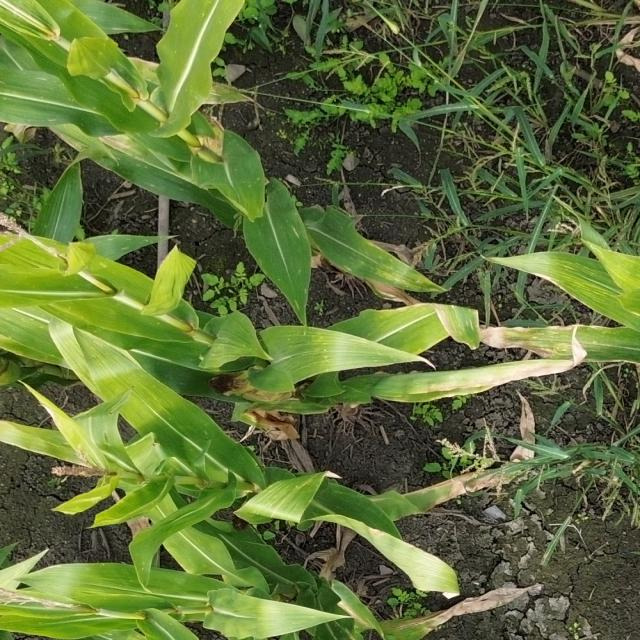gray-leaf-spot: (546, 238, 640, 314)
northern-leaf-blight: (397, 343, 584, 409), (483, 311, 640, 365), (358, 524, 463, 598)
southern-leaf-blight: (14, 279, 144, 387), (123, 136, 277, 206), (21, 68, 134, 148), (258, 308, 389, 376), (341, 240, 462, 308), (249, 225, 326, 323)
